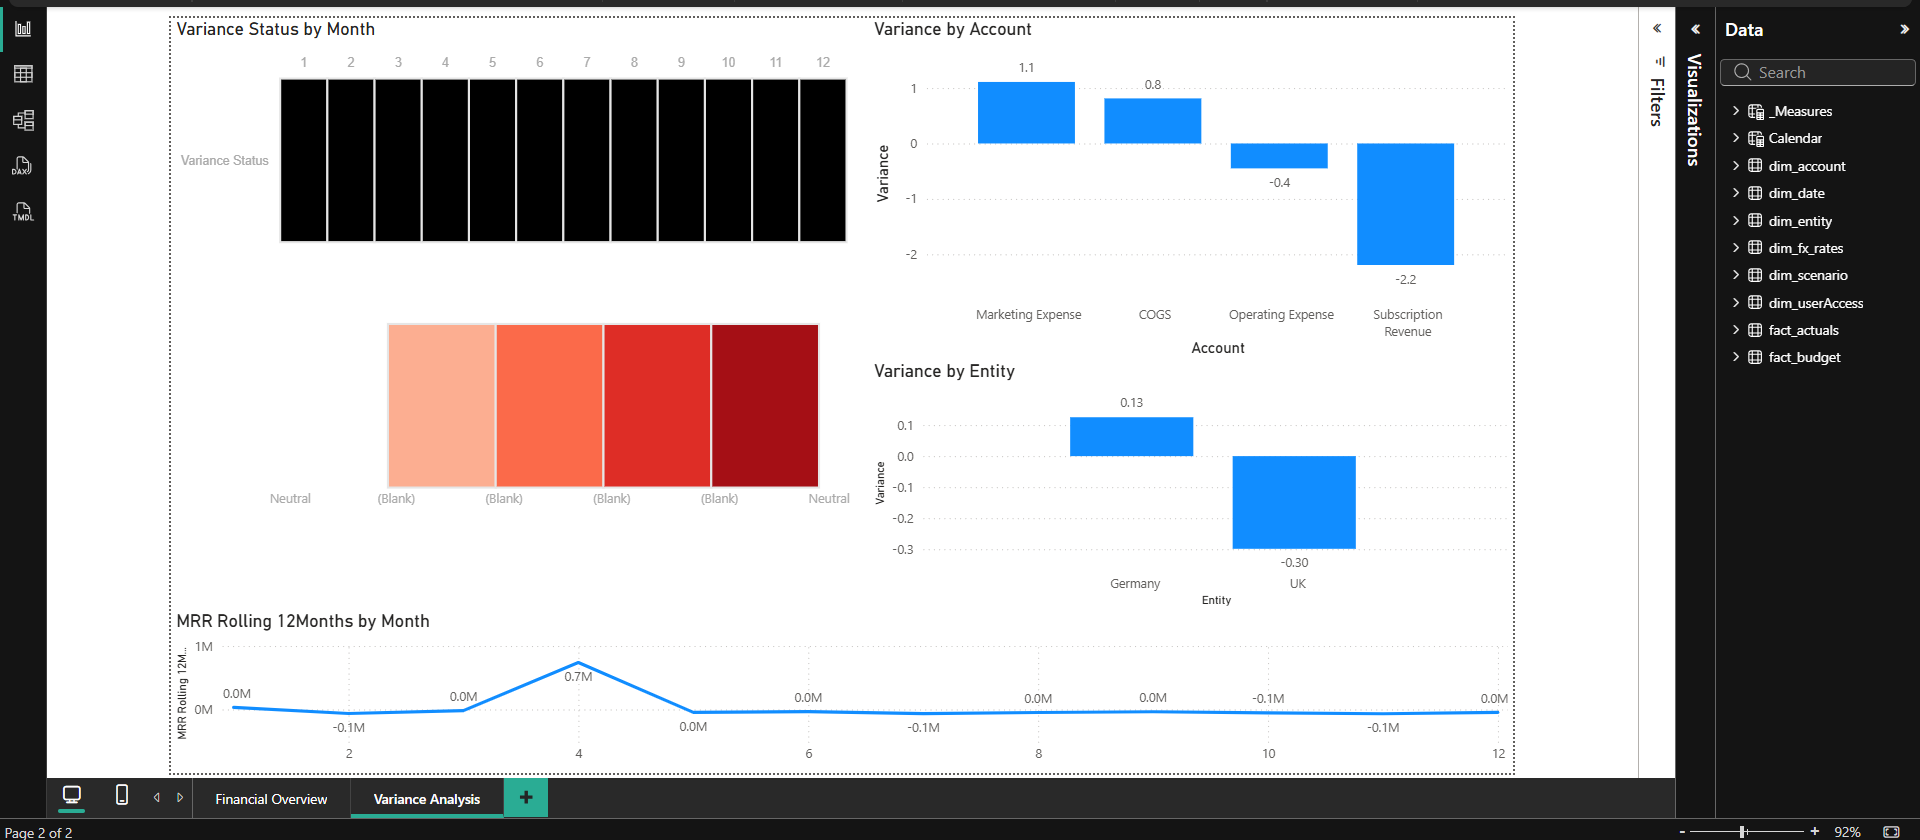

Layout of this report page (visuals, bound fields, positions):
{"tool":"powerbi","page":{"name":"Variance Analysis","canvas":[1280,720],"ordinal":1},"visuals":[{"type":"columnChart","fields":{"Category":["dim_account.Account"],"Y":["_Measures.Variance"]},"box":[664.7,0,615.2,326.4],"z":4000},{"type":"lineChart","fields":{"Y":["_Measures.MRR Rolling 12Months"],"Category":["dim_date.Month"]},"box":[0,565.6,1279.9,154.1],"z":5000},{"type":"TableHeatMap1443716069308","fields":{"Y":["_Measures.Variance Status"],"Category":["dim_date.Month"]},"box":[0,0,664.6,566],"z":6000},{"type":"columnChart","fields":{"Y":["_Measures.Variance"],"Category":["dim_entity.Entity"]},"box":[664.7,326.4,615.2,239.2],"z":7000}]}

Visuals, with their boxes on the page's 1280x720 design canvas (x1, y1, x2, y2). These are canvas units, not pixel positions in the 1920x840 screenshot, which may show the page scaled, cropped or inside an application window:
columnChart - dim_account.Account x _Measures.Variance: 665 0 1280 326
lineChart - _Measures.MRR Rolling 12Months x dim_date.Month: 0 566 1280 720
TableHeatMap1443716069308 - _Measures.Variance Status x dim_date.Month: 0 0 665 566
columnChart - _Measures.Variance x dim_entity.Entity: 665 326 1280 566
